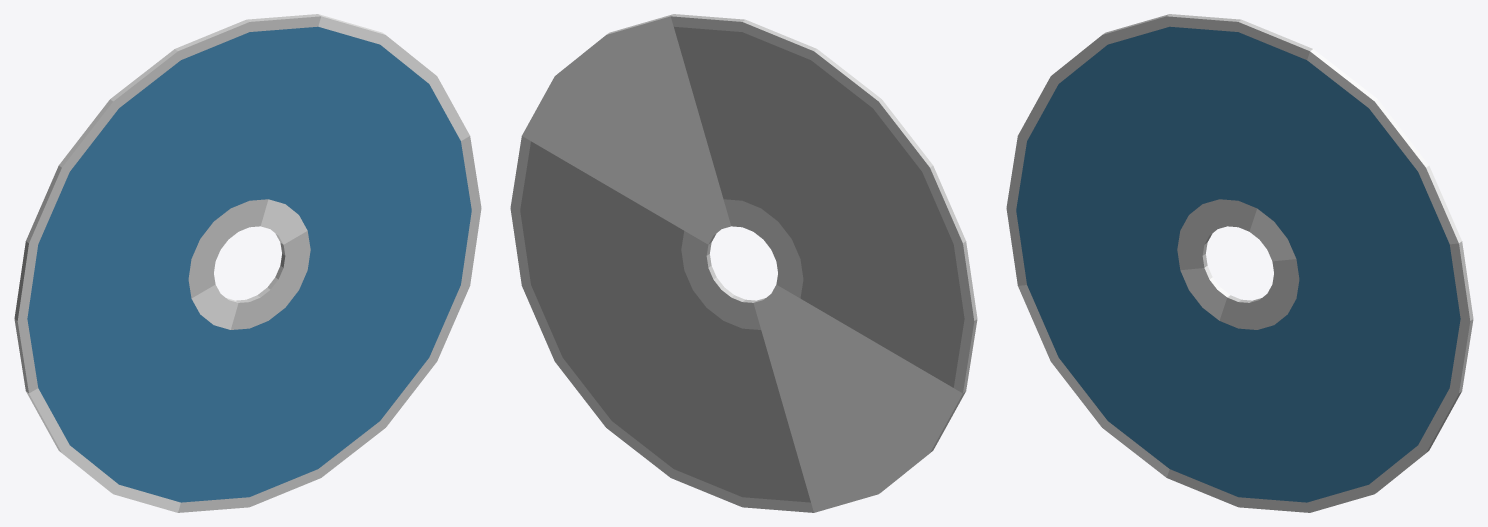
3 views of the same model, side by side, from view 1: azimuth 30°, elevation 25°; view 2: azimuth 150°, elevation 25°; view 3: azimuth 330°, elevation 25° (orthographic).
Visible parts, largest first — view 1: CDs; view 2: CDs; view 3: CDs.
Part boxes in pixels (left/top/right/bottom): CDs: left=14, top=14, right=481, bottom=512; CDs: left=510, top=14, right=977, bottom=512; CDs: left=1006, top=14, right=1473, bottom=512.
Bounding box in the file's own units: 42.45 × 42.45 × 0.5096.
1 material, 1 textured.
